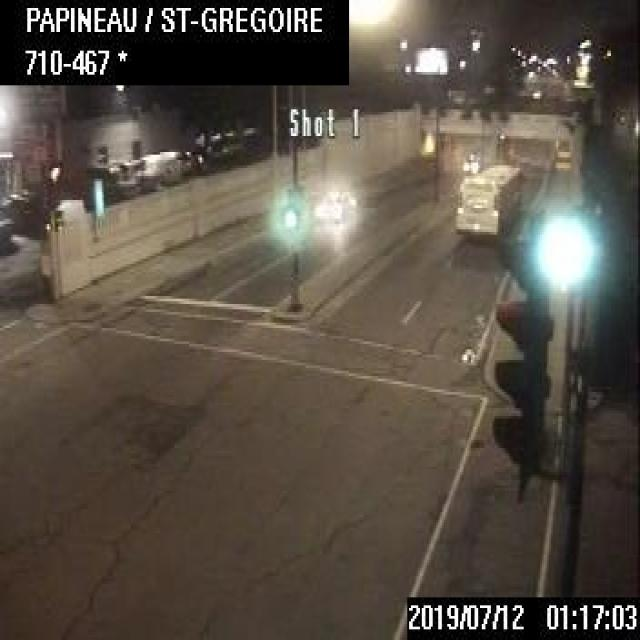bus: (453, 166, 522, 234)
vehicle: (311, 187, 358, 221), (460, 152, 482, 176)
